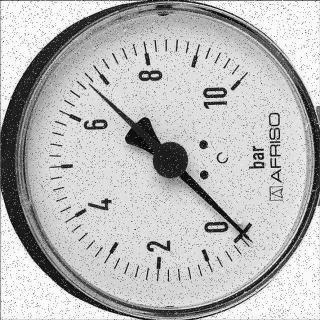gauge: (1, 2, 320, 320), (151, 141, 189, 179), (218, 68, 250, 108), (230, 213, 256, 247), (238, 227, 258, 248), (84, 79, 96, 91)
